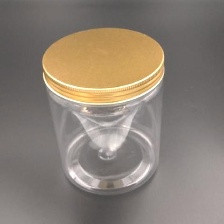plastic_box: (35, 21, 174, 201)
